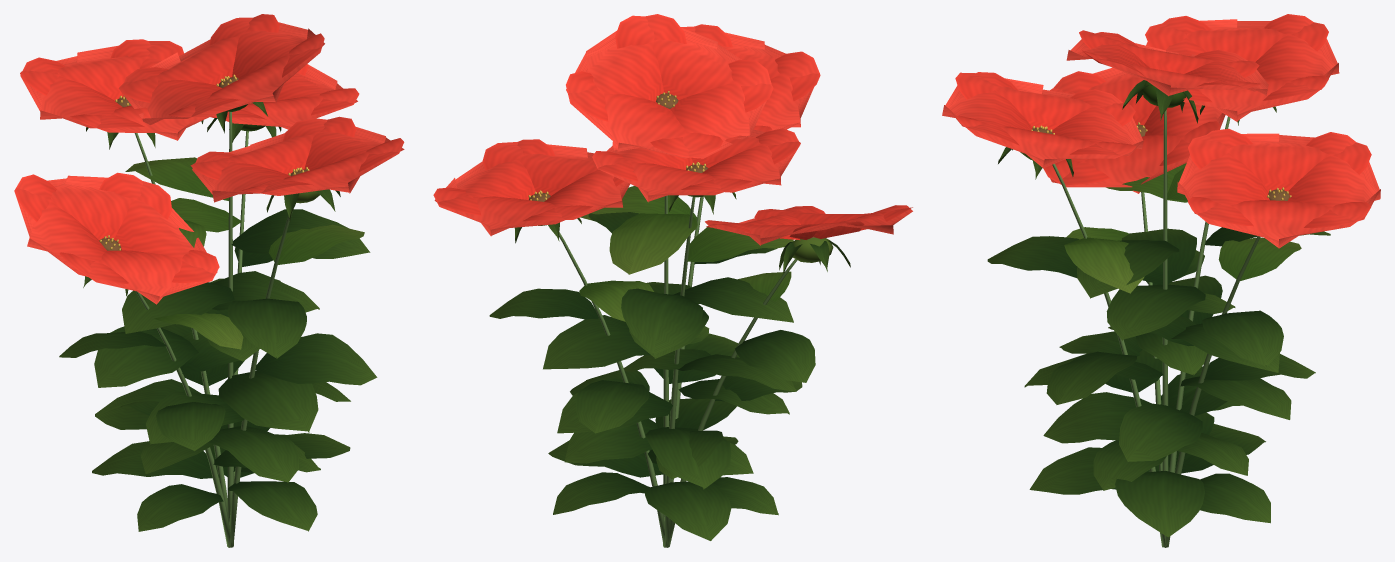
File: poppy-10-lod.glb
3 renders of one model, left to right at view 1: azimuth 30°, elevation 25°; view 2: azimuth 150°, elevation 25°; view 3: azimuth 270°, elevation 25°, orthographic. The views are drawn at different scales.
Parts seen in each view (by area): view 1: poppy_stage_10_poppy_petal.019, poppy_stage_10_leaf_veins.019, poppy_stage_10_young_leaf.019, poppy_stage_10_stem_fibres.019; view 2: poppy_stage_10_poppy_petal.019, poppy_stage_10_leaf_veins.019, poppy_stage_10_young_leaf.019, poppy_stage_10_stem_fibres.019; view 3: poppy_stage_10_poppy_petal.019, poppy_stage_10_leaf_veins.019, poppy_stage_10_young_leaf.019, poppy_stage_10_stem_fibres.019.
Boxes of the visible parts, left/top/right/bottom form: poppy_stage_10_poppy_petal.019: left=14, top=14, right=404, bottom=304; poppy_stage_10_leaf_veins.019: left=59, top=102, right=377, bottom=531; poppy_stage_10_young_leaf.019: left=125, top=104, right=364, bottom=349; poppy_stage_10_stem_fibres.019: left=134, top=111, right=292, bottom=547; poppy_stage_10_poppy_petal.019: left=433, top=14, right=912, bottom=245; poppy_stage_10_leaf_veins.019: left=489, top=192, right=850, bottom=540; poppy_stage_10_young_leaf.019: left=538, top=186, right=833, bottom=321; poppy_stage_10_stem_fibres.019: left=559, top=195, right=797, bottom=547; poppy_stage_10_poppy_petal.019: left=942, top=14, right=1380, bottom=248; poppy_stage_10_leaf_veins.019: left=987, top=80, right=1330, bottom=537; poppy_stage_10_young_leaf.019: left=1020, top=81, right=1301, bottom=293; poppy_stage_10_stem_fibres.019: left=1052, top=110, right=1260, bottom=547.
Bounding box in the file's own units: 0.4997 × 0.6409 × 0.492.
Materials: 6 (3 with a texture image).
